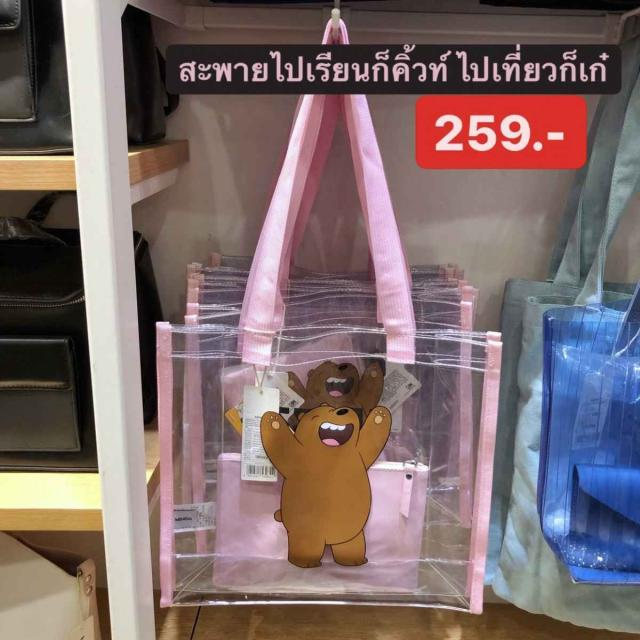Handbag: (117, 295, 507, 640)
